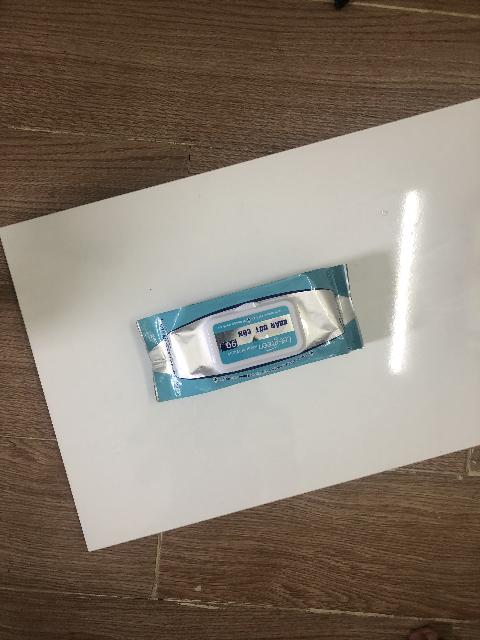Let-green_alcohol_wipes: (138, 265, 365, 403)
